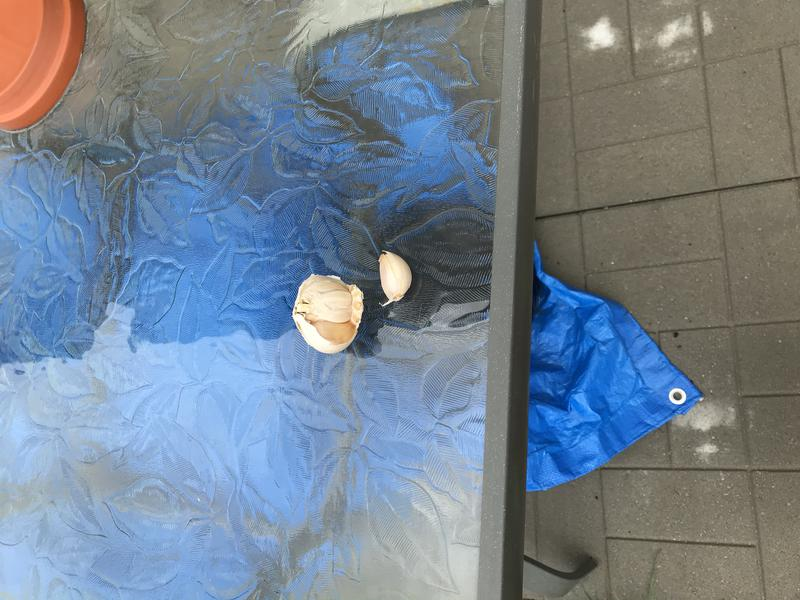garlic: (289, 267, 367, 358), (372, 244, 417, 312)
